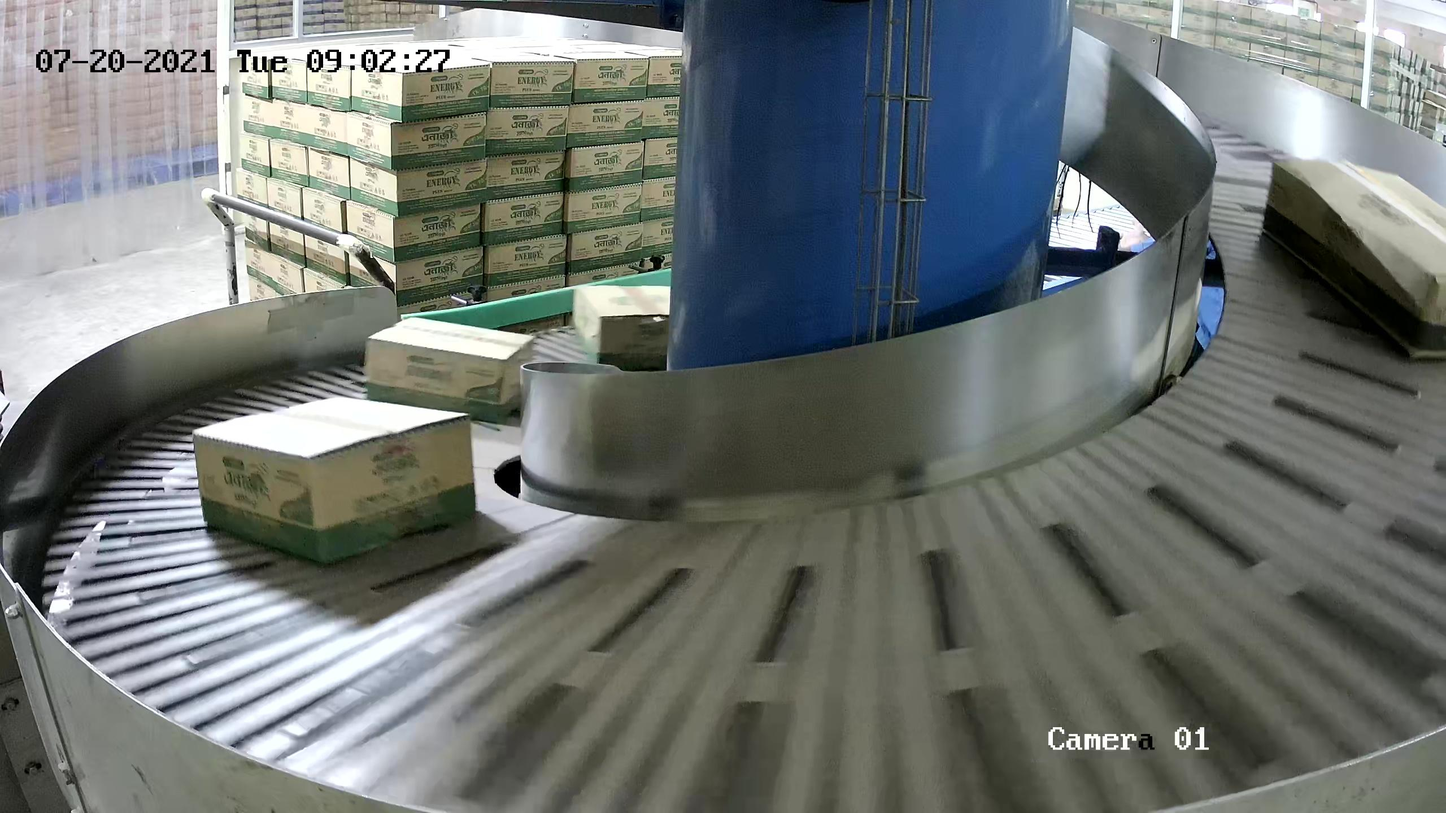Box: (192, 395, 478, 568), (1262, 157, 1446, 364), (362, 316, 537, 419), (574, 279, 702, 376)
